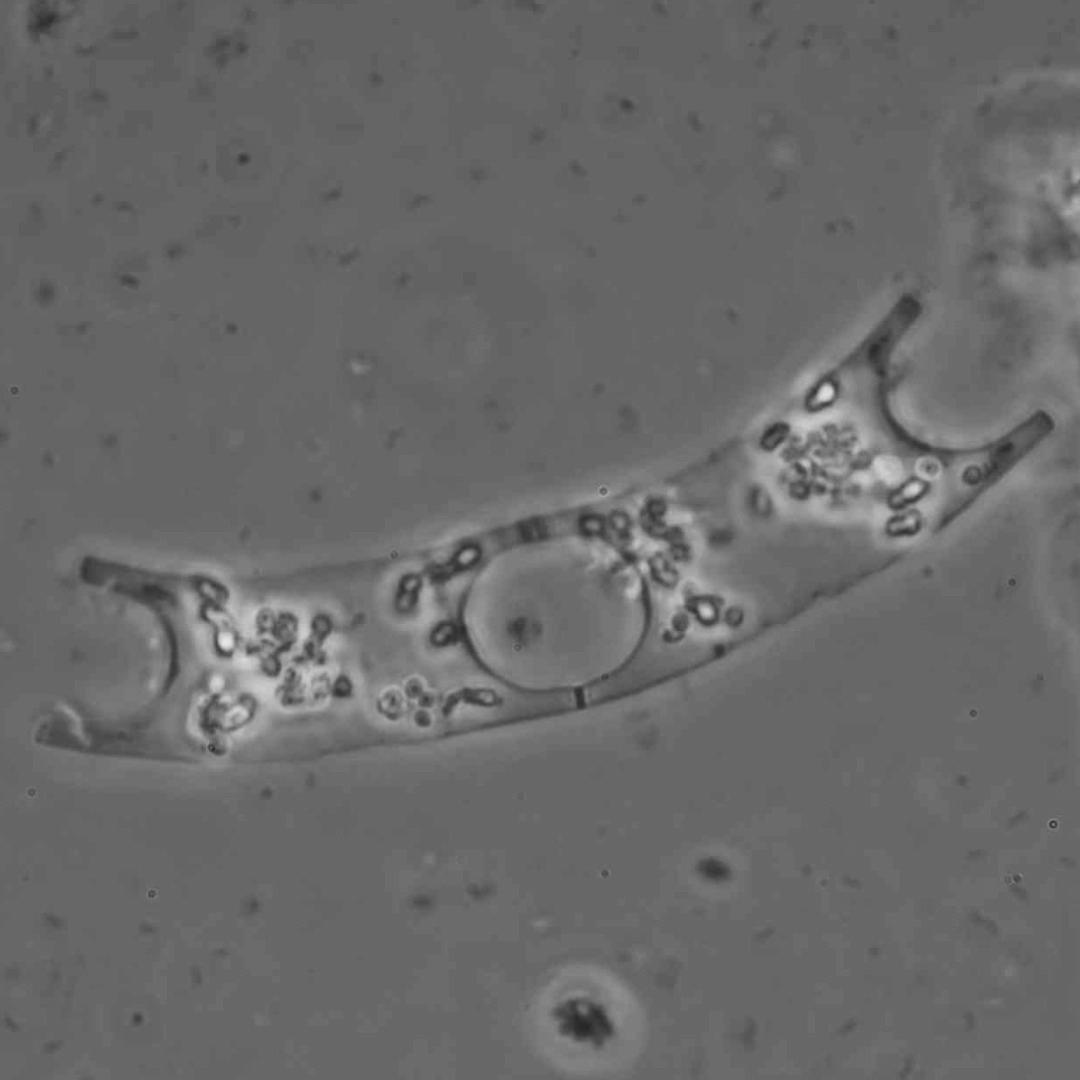eucampia_zodiacus: (31, 292, 1057, 765)
